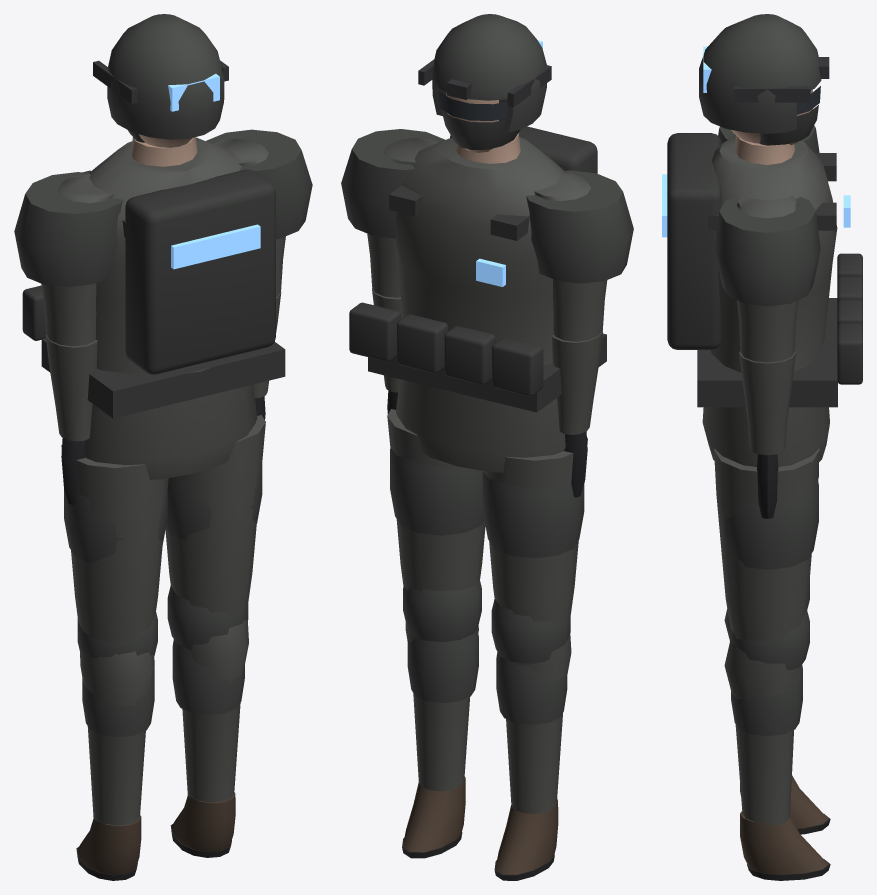
Rendered from char_titan.glb.
3 views of the same model, side by side, from view 1: azimuth 30°, elevation 25°; view 2: azimuth 150°, elevation 25°; view 3: azimuth 270°, elevation 25° (orthographic).
Parts seen in each view (by area): view 1: char_titan; view 2: char_titan; view 3: char_titan.
Boxes of the visible parts, x1,y1,x2,y2 form: char_titan: (14, 14, 312, 880); char_titan: (341, 14, 633, 880); char_titan: (662, 14, 862, 880).
Size of what is drawn, in the model's own units: 0.656 by 1.85 by 0.4075.
